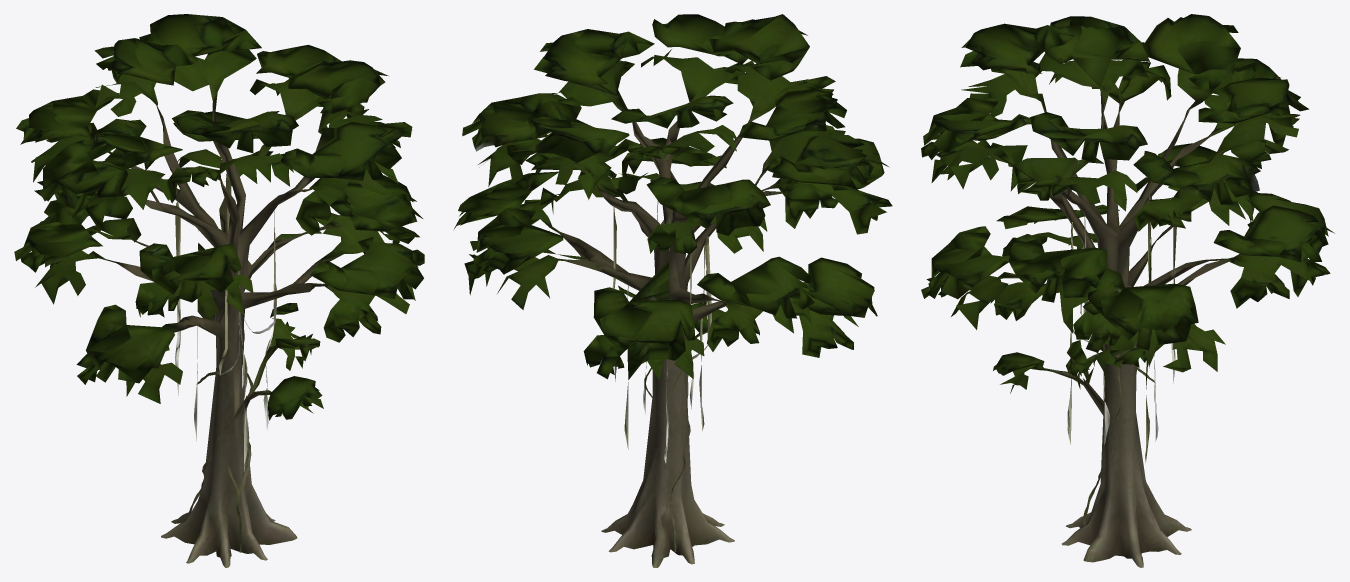
Rendered from javaporcos_mint_arvore_mata.glb.
3 renders of one model, left to right at view 1: azimuth 30°, elevation 25°; view 2: azimuth 150°, elevation 25°; view 3: azimuth 270°, elevation 25°, orthographic.
Parts seen in each view (by area): view 1: Árvore da mata atlântica; view 2: Árvore da mata atlântica; view 3: Árvore da mata atlântica.
Part boxes in pixels (box(x1,y1,x2,y2)): Árvore da mata atlântica: box(14, 14, 424, 567); Árvore da mata atlântica: box(454, 14, 892, 567); Árvore da mata atlântica: box(921, 14, 1334, 567).
Bounding box in the file's own units: 8.43 × 10 × 7.69.
1 material, 1 textured.
